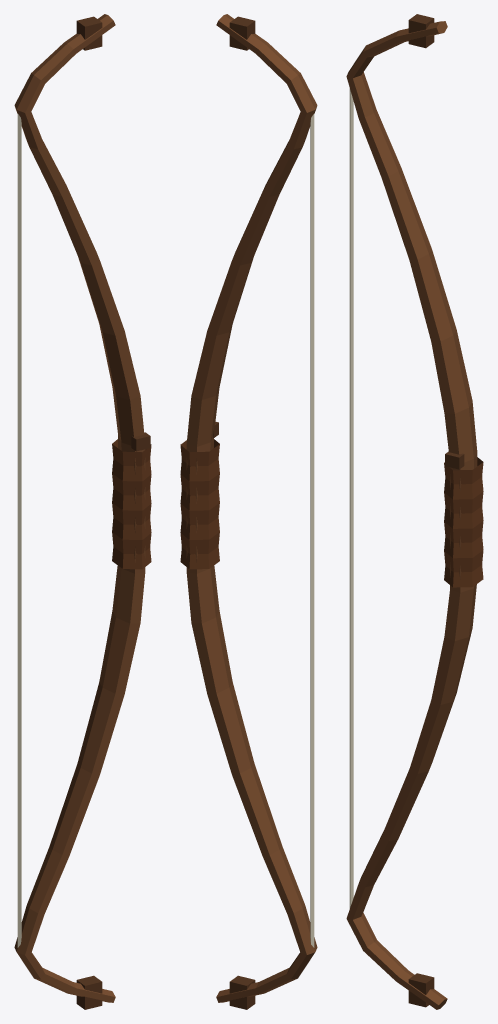
The model's file is W2_Bow.fbx.
3 renders of one model, left to right at view 1: azimuth 30°, elevation 25°; view 2: azimuth 150°, elevation 25°; view 3: azimuth 330°, elevation 25°, orthographic.
Parts seen in each view (by area): view 1: W2_Bow, W2_Bow_String; view 2: W2_Bow, W2_Bow_String; view 3: W2_Bow, W2_Bow_String.
Part boxes in pixels (x1,y1,x2,y2): W2_Bow: [14, 14, 151, 1009]; W2_Bow_String: [17, 113, 21, 947]; W2_Bow: [180, 14, 317, 1009]; W2_Bow_String: [310, 113, 314, 947]; W2_Bow: [346, 14, 483, 1009]; W2_Bow_String: [349, 88, 353, 908].
Bounding box in the file's own units: 18.04 × 131 × 5.4.
